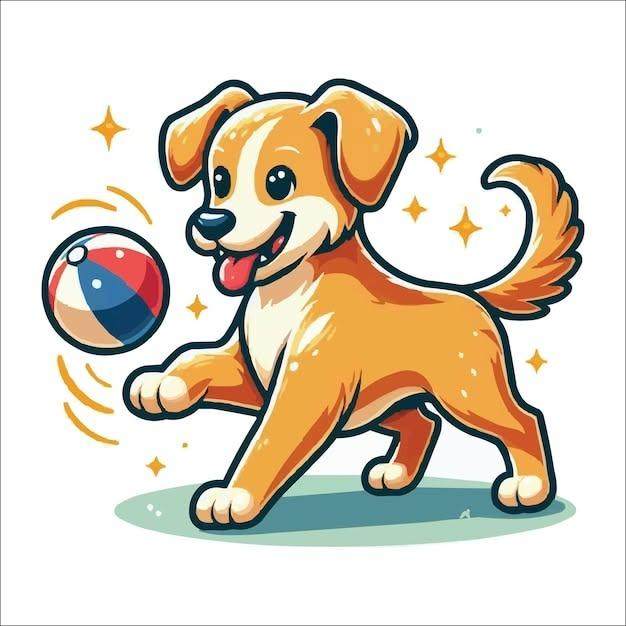non-dog: (42, 226, 171, 355)
puppy-dog: (123, 77, 586, 531)
